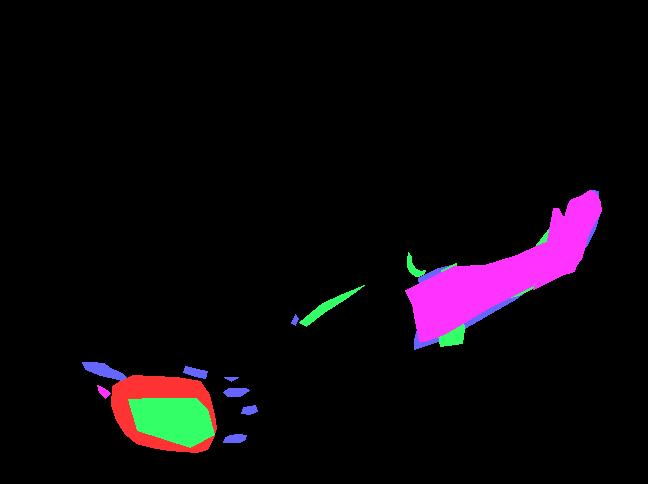Broken part: (128, 398, 214, 447), (511, 224, 553, 297), (299, 285, 364, 326), (433, 263, 464, 346), (407, 252, 425, 276)
Dent: (405, 241, 548, 341), (533, 190, 601, 289), (97, 385, 110, 398)
Missing part: (111, 375, 216, 452)
Scratch: (414, 190, 599, 349), (82, 362, 126, 380), (183, 366, 207, 378), (223, 388, 249, 396), (223, 434, 246, 442), (241, 405, 257, 414), (291, 314, 298, 325), (224, 377, 238, 381)
